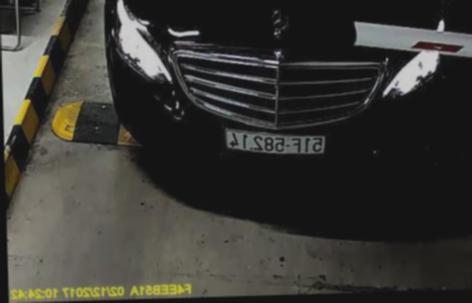License_Plate: (218, 123, 332, 158)
